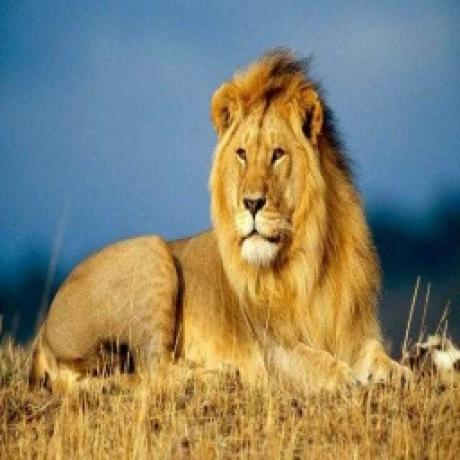Lion: (34, 42, 415, 397)
